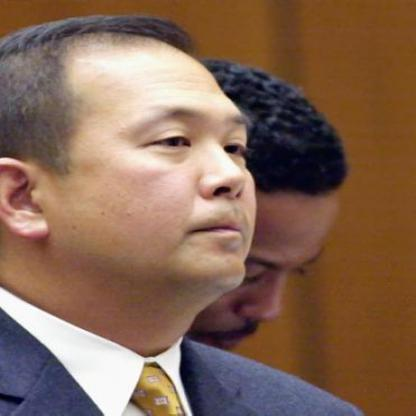face: (27, 9, 271, 311), (121, 128, 338, 376)
